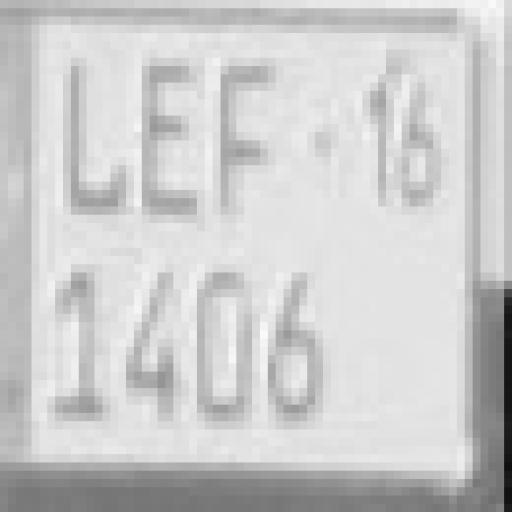0: (193, 267, 257, 431)
1: (50, 271, 102, 419)
4: (120, 262, 178, 420)
6: (270, 265, 320, 436)
E: (144, 48, 207, 222)
F: (215, 60, 279, 236)
L: (56, 52, 124, 220)
